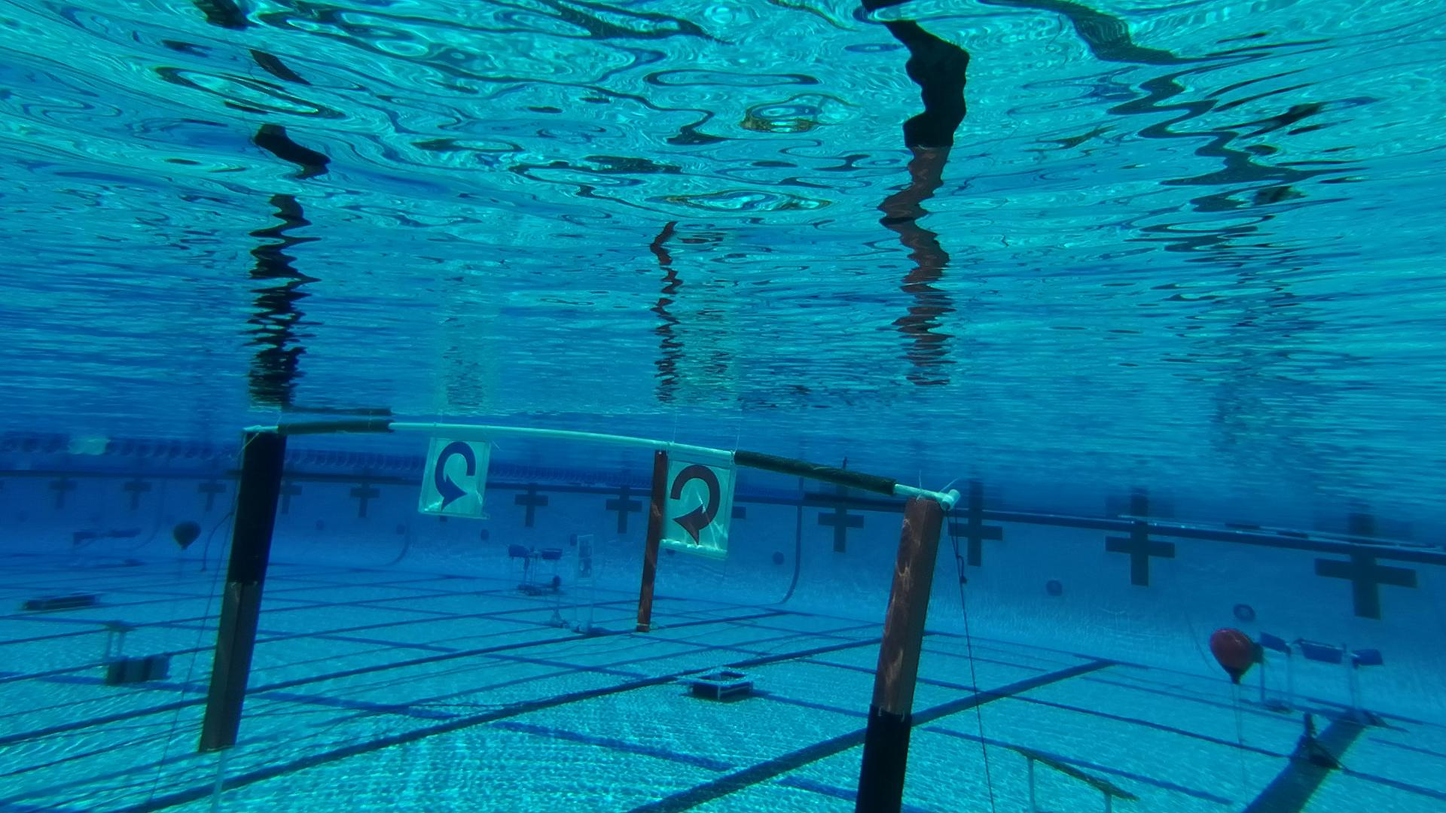buoy: (1208, 626, 1261, 684), (170, 518, 203, 556)
coral-box-side: (1245, 637, 1388, 716), (509, 540, 566, 602), (69, 522, 143, 561), (28, 588, 104, 620)
dropper-box-side: (678, 661, 763, 708)
path: (1012, 738, 1128, 813), (414, 429, 503, 523), (103, 616, 136, 663)
red octagon: (579, 560, 585, 572), (587, 546, 592, 558), (586, 567, 592, 575), (580, 540, 584, 550)
red-gate-sign: (667, 454, 737, 556)
